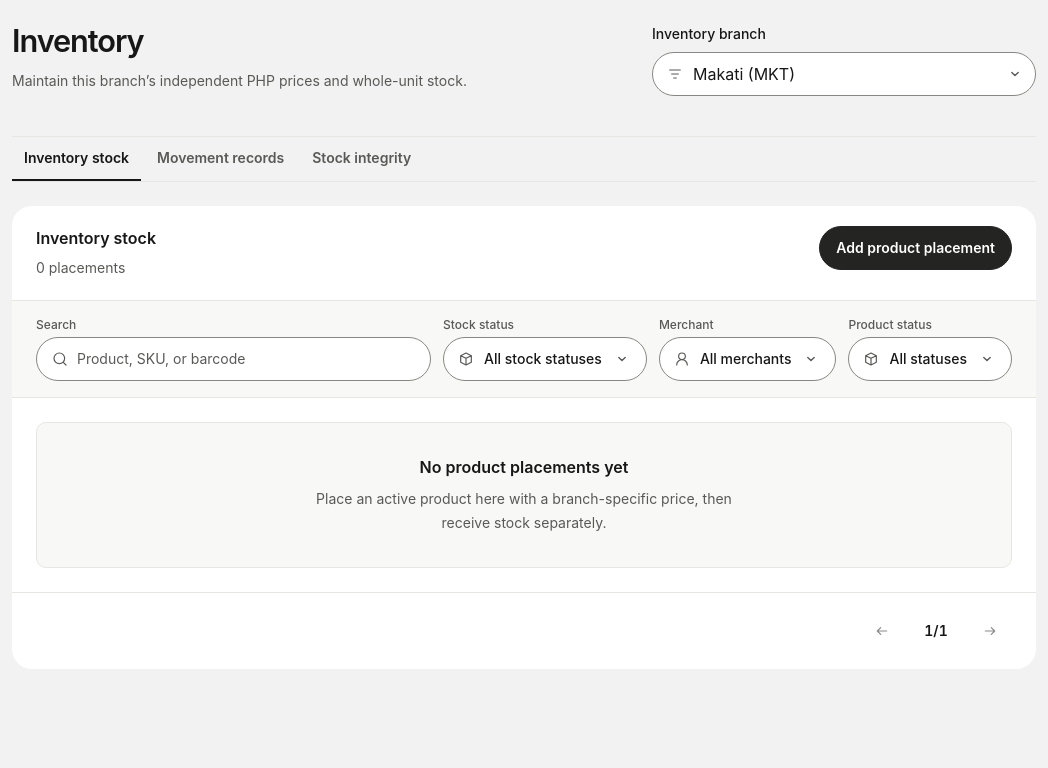
Test: InventoryDirectory workflows › distinguishes empty and filtered-empty results
The width and height of the screenshot is (1048, 768).
Expected: the heading "No product placements yet" is shown, [420,455,628,479]
Click the dropdown named "Product status" at (930,359), box [848,337,1012,381]
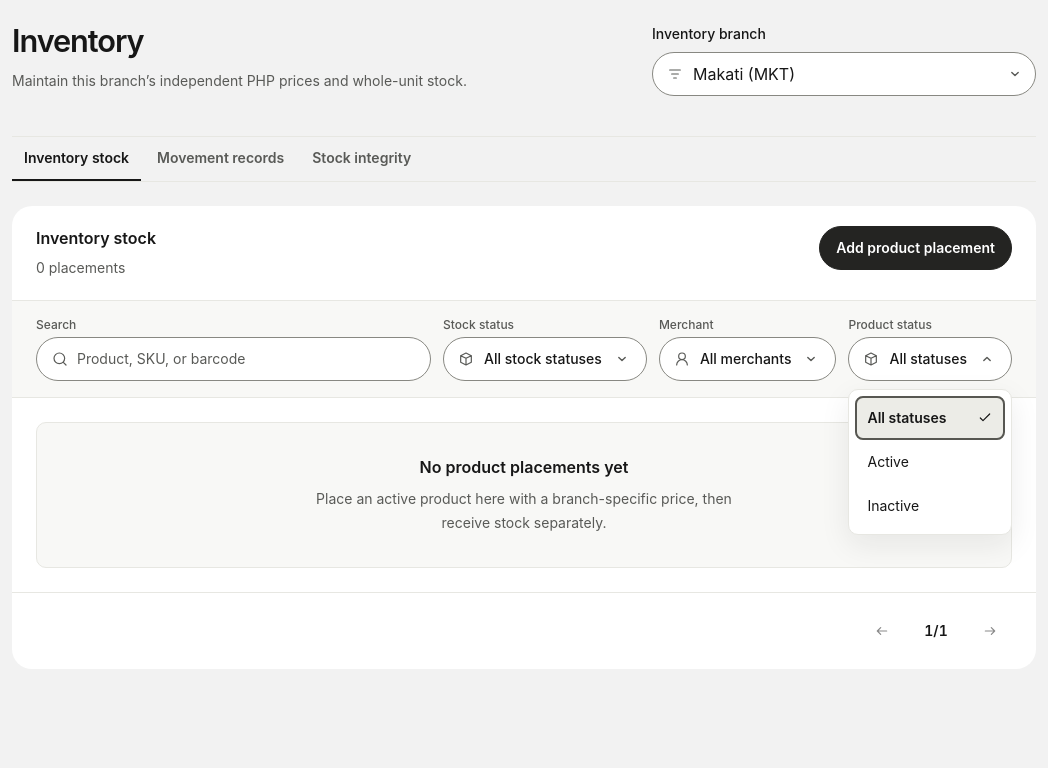
Click the option "Inactive" at (930,506), box [856,484,1005,528]
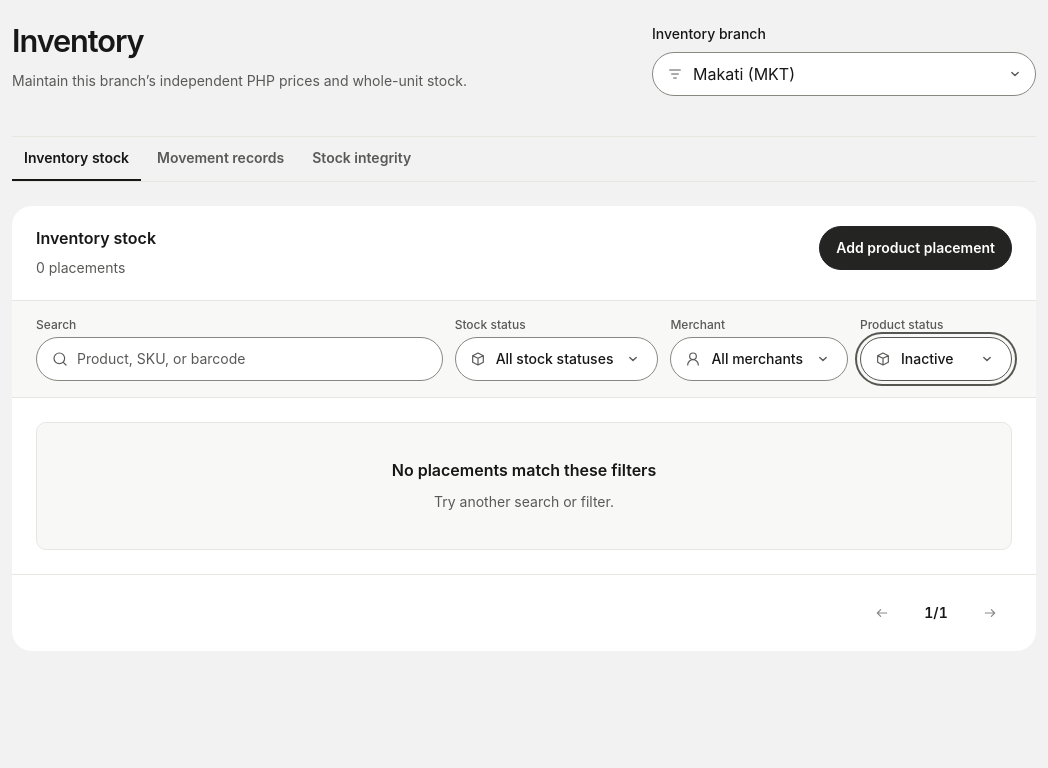
Now the heading "No placements match these filters" is shown, box [392,458,656,482]
